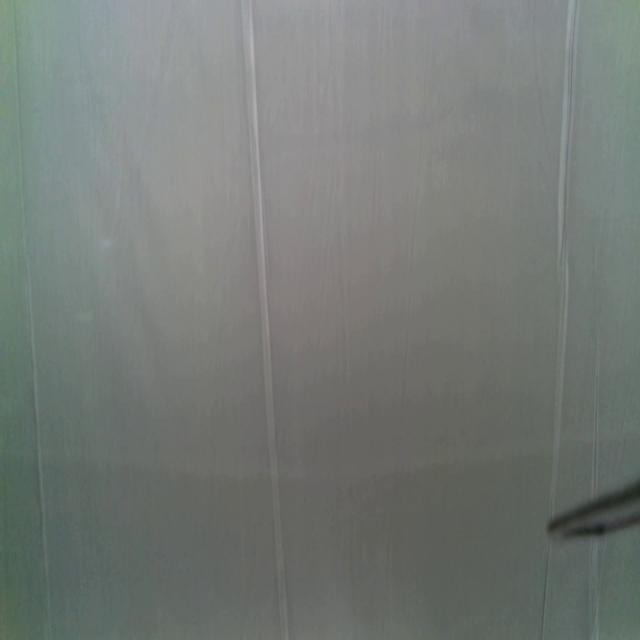color bleeding: (0, 431, 586, 507)
crease: (240, 0, 290, 636), (13, 2, 52, 640), (548, 0, 579, 510), (590, 328, 601, 496), (539, 519, 553, 638), (588, 536, 602, 638)
